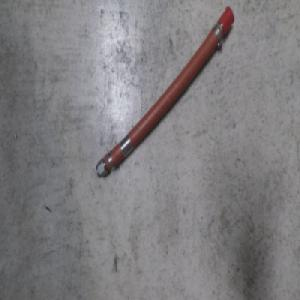Hose: (93, 4, 235, 180)
